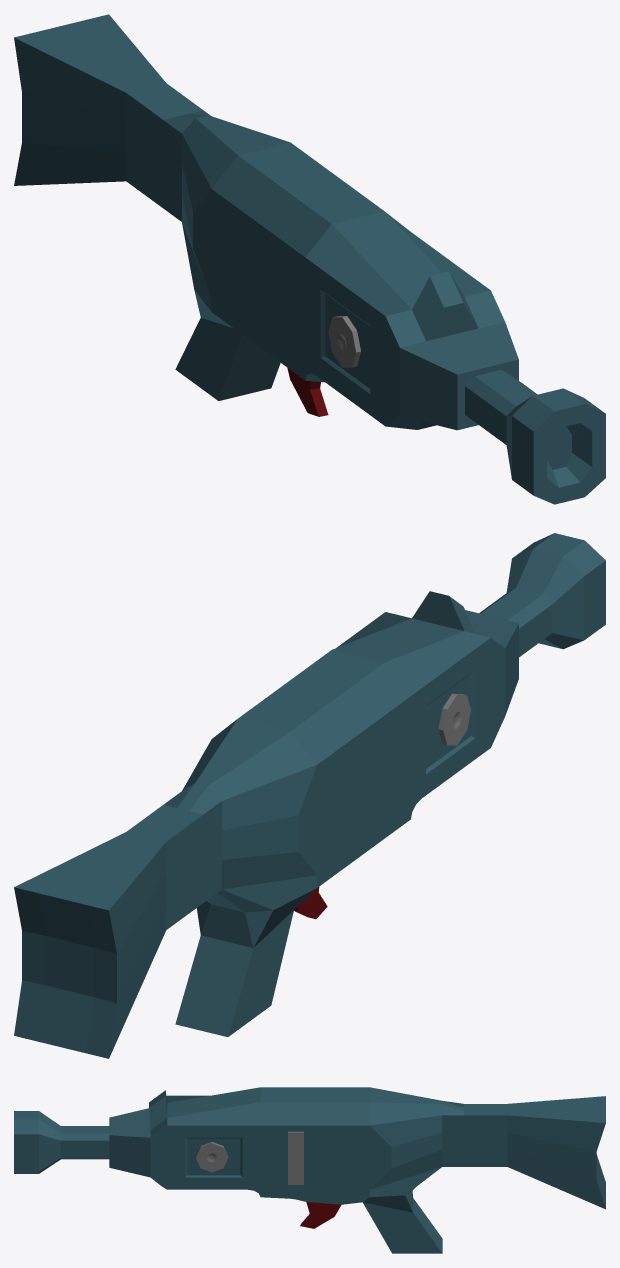
File: virus weapon.fbx
3 views of the same model, one above another, from view 1: azimuth 30°, elevation 25°; view 2: azimuth 150°, elevation 25°; view 3: azimuth 270°, elevation 25° (orthographic). The views are drawn at different scales.
Parts seen in each view (by area): view 1: Cube; view 2: Cube; view 3: Cube, Cube.001.
Boxes of the visible parts, x1=… form: Cube: x1=14, y1=14, x2=605, y2=504; Cube: x1=14, y1=533, x2=605, y2=1058; Cube: x1=14, y1=1087, x2=605, y2=1253; Cube.001: x1=288, y1=1131, x2=303, y2=1184.
Size of the model in its own units: 218 by 477 by 1670.
